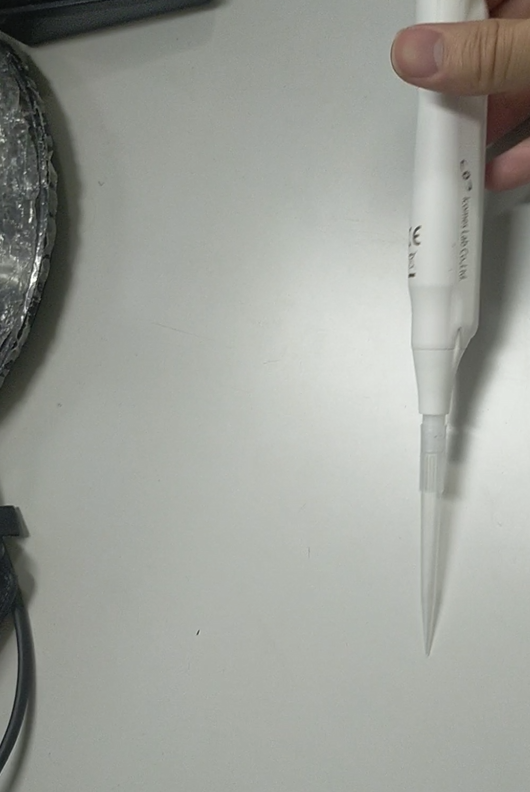pipette: (410, 1, 503, 413)
tip: (400, 414, 451, 690)
